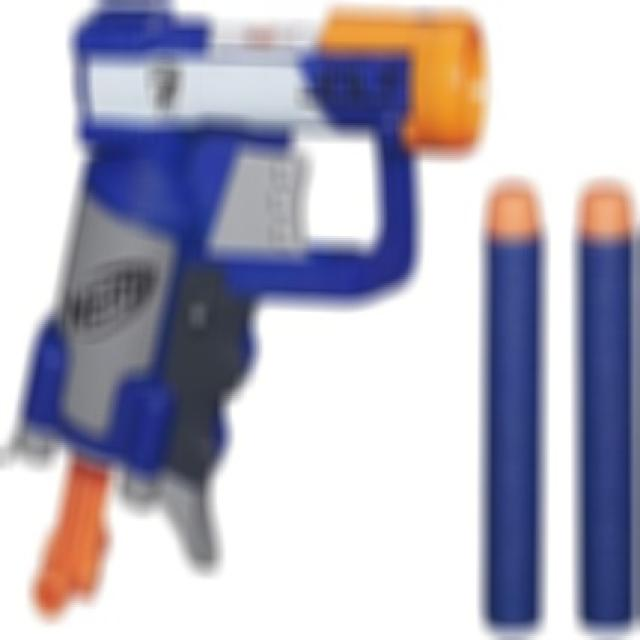Nerf gun: (4, 0, 490, 628)
